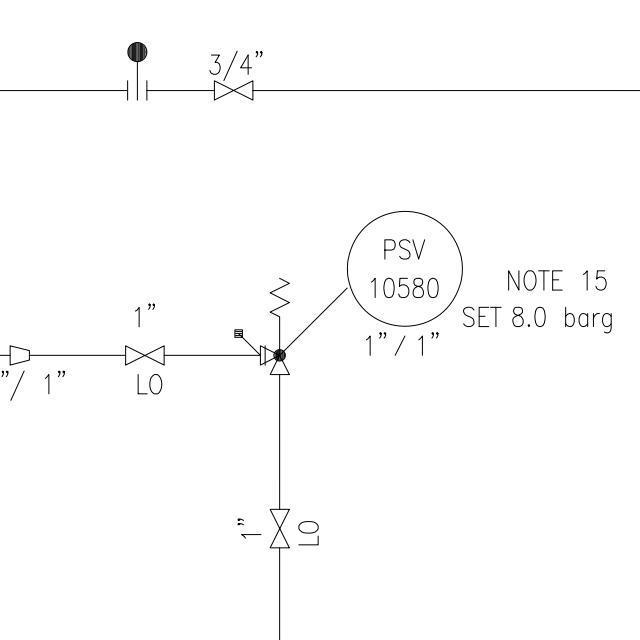GV: (207, 75, 259, 104), (118, 342, 170, 370), (266, 505, 294, 551)
RPV: (250, 267, 297, 388)
SP: (4, 340, 33, 373)
